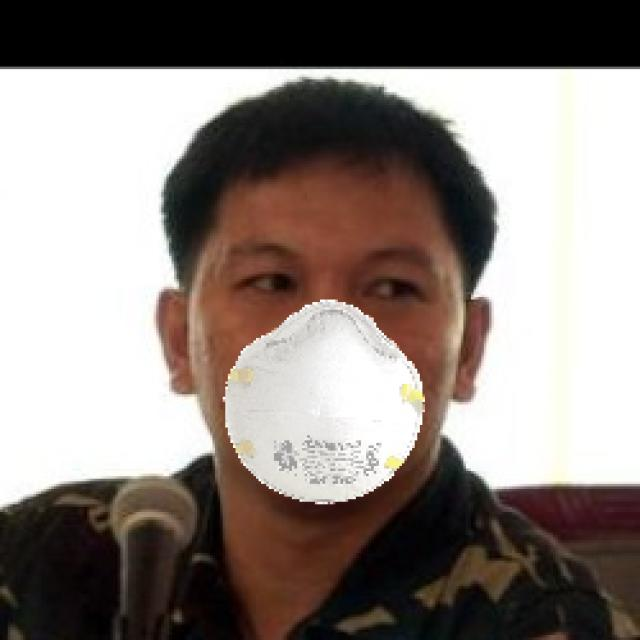mask: (205, 309, 440, 506)
